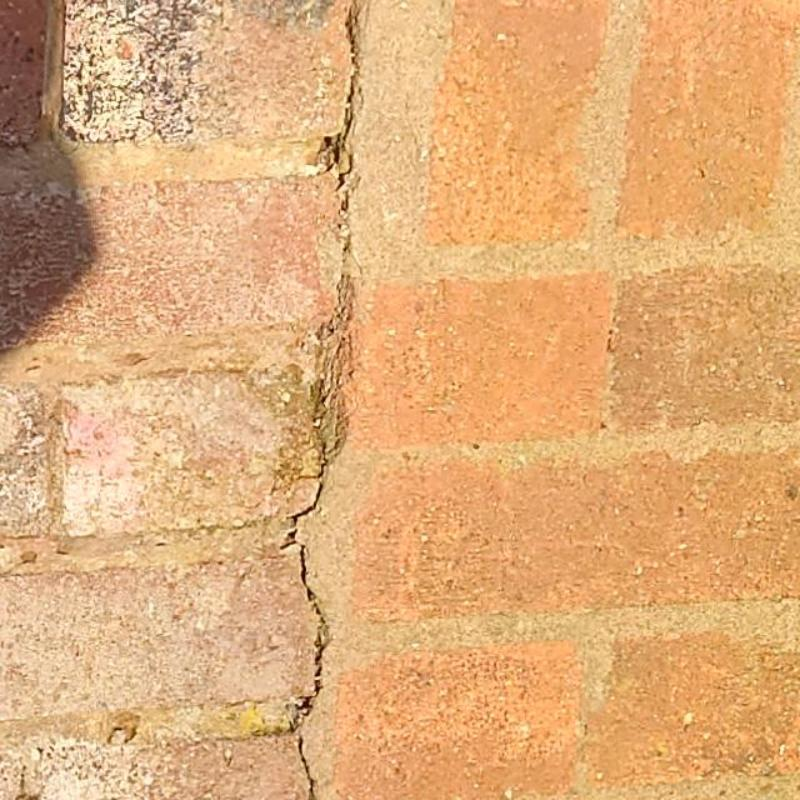pothole: (280, 0, 362, 799)
